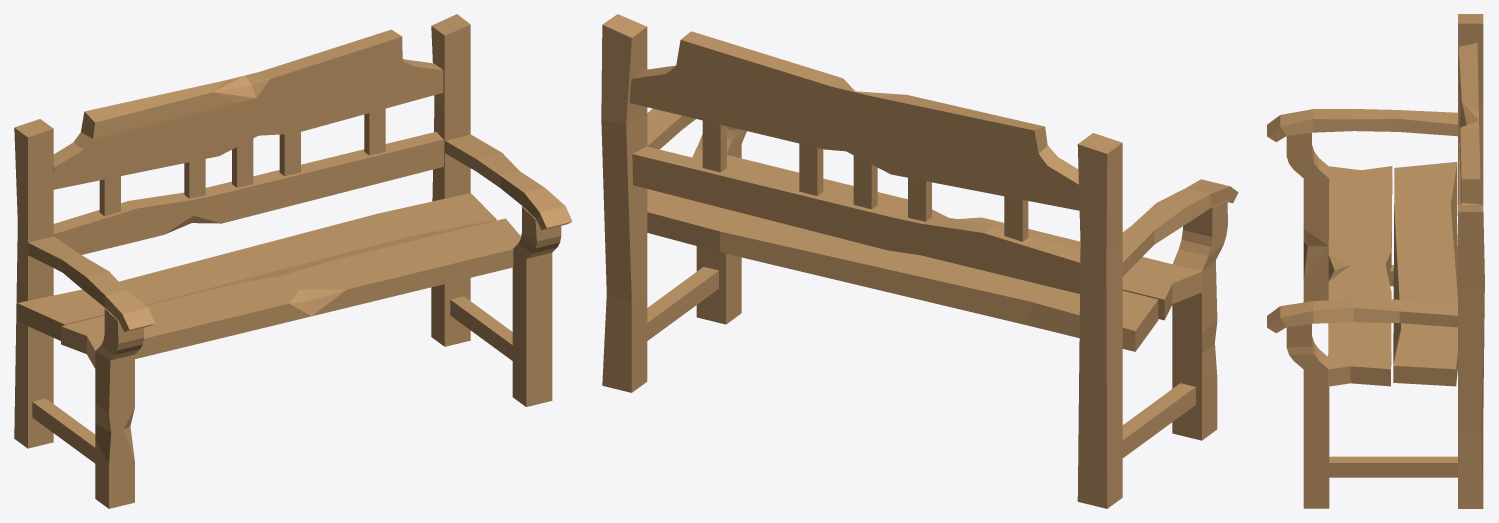
File: Bench_3.fbx
The picture shows the model from 3 angles, left to right: view 1: azimuth 30°, elevation 25°; view 2: azimuth 150°, elevation 25°; view 3: azimuth 270°, elevation 25°; orthographic projection. The views are drawn at different scales.
Visible parts, largest first — view 1: Bench_3; view 2: Bench_3; view 3: Bench_3.
Part boxes in pixels (<box>): Bench_3: <box>14,14,572,508</box>; Bench_3: <box>601,14,1238,508</box>; Bench_3: <box>1267,14,1484,508</box>.
Bounding box in the file's own units: 175 × 77.53 × 117.
